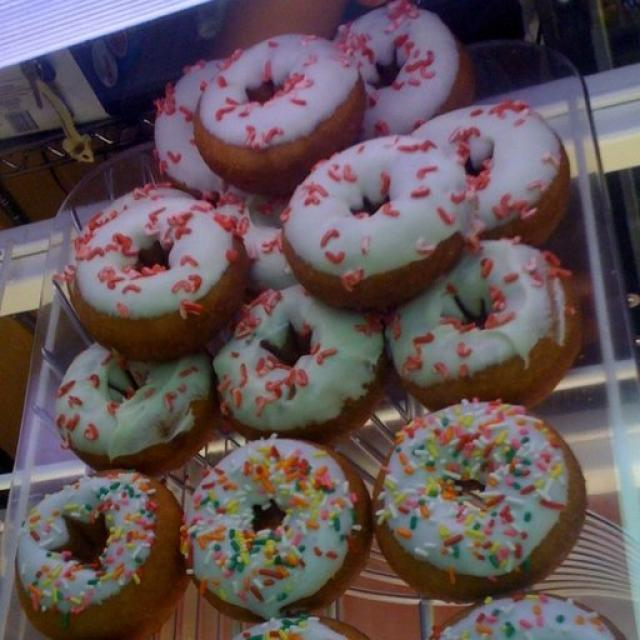Donuts: (25, 11, 613, 640)
